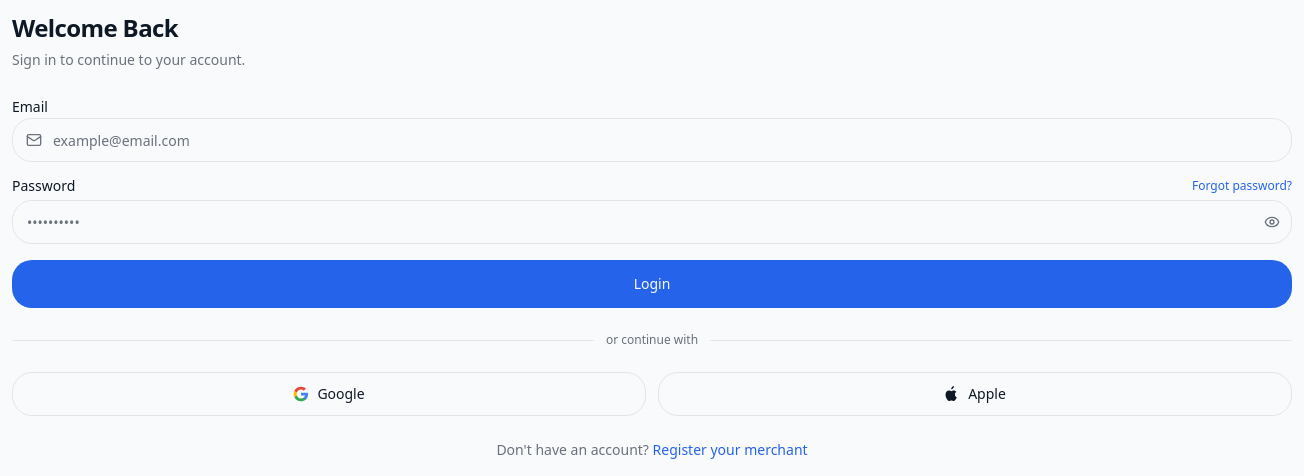
Test: LoginForm › shows merchant selector when login requires merchant_id
The width and height of the screenshot is (1304, 476).
Type "owner@example.com" into the field labelled "Email" at (652, 140), box [12,118,1292,162]
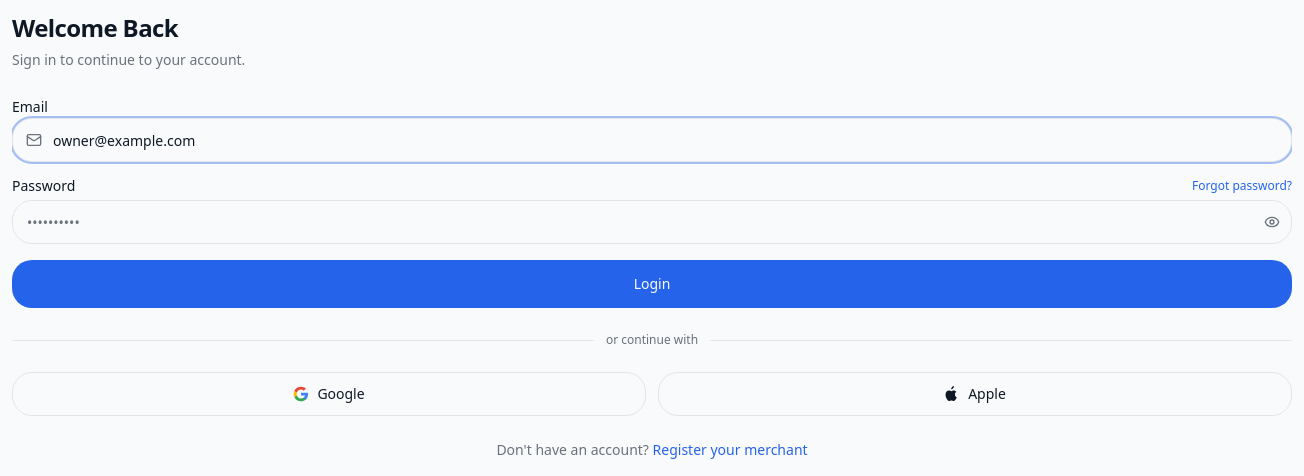
Type "password123" into the password field labelled "Password" at (652, 222), box [12,200,1292,244]
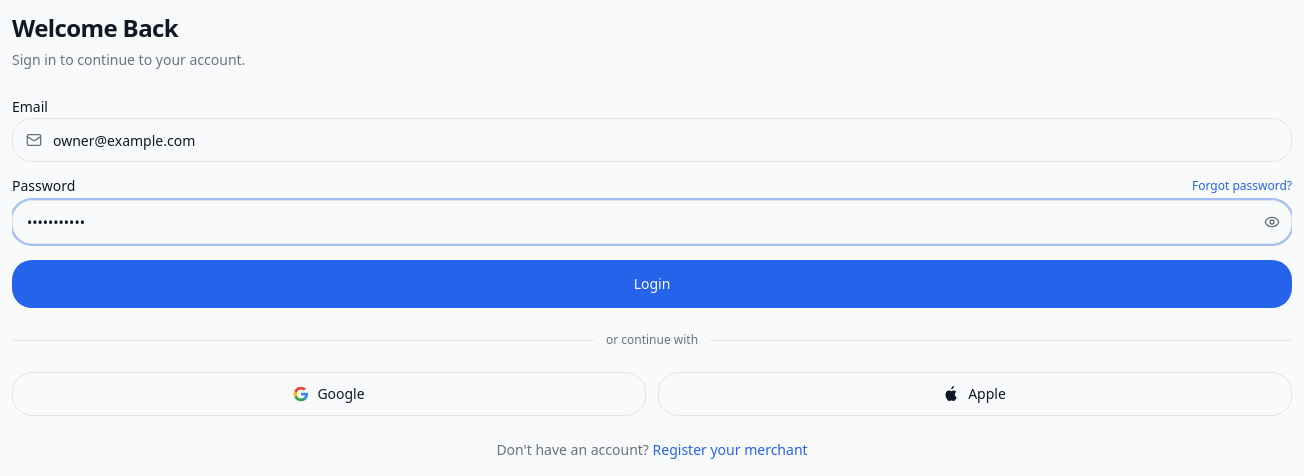
Click the button "Login" at (652, 284), box [12,260,1292,308]
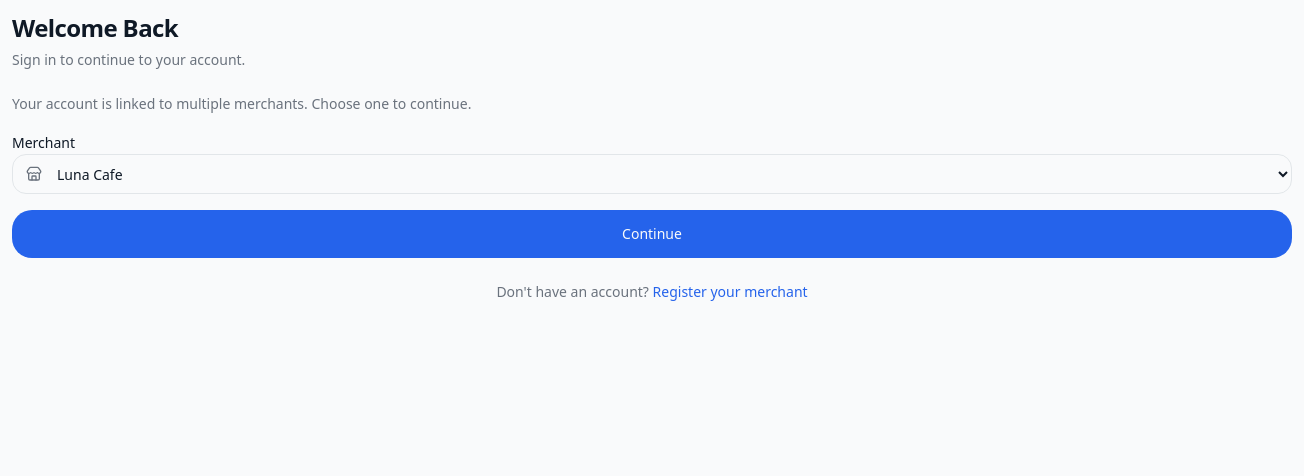
Expected: the dropdown labelled "Merchant" is shown, [12,154,1292,194]
Expected: the button "Continue" is shown, [12,210,1292,258]
